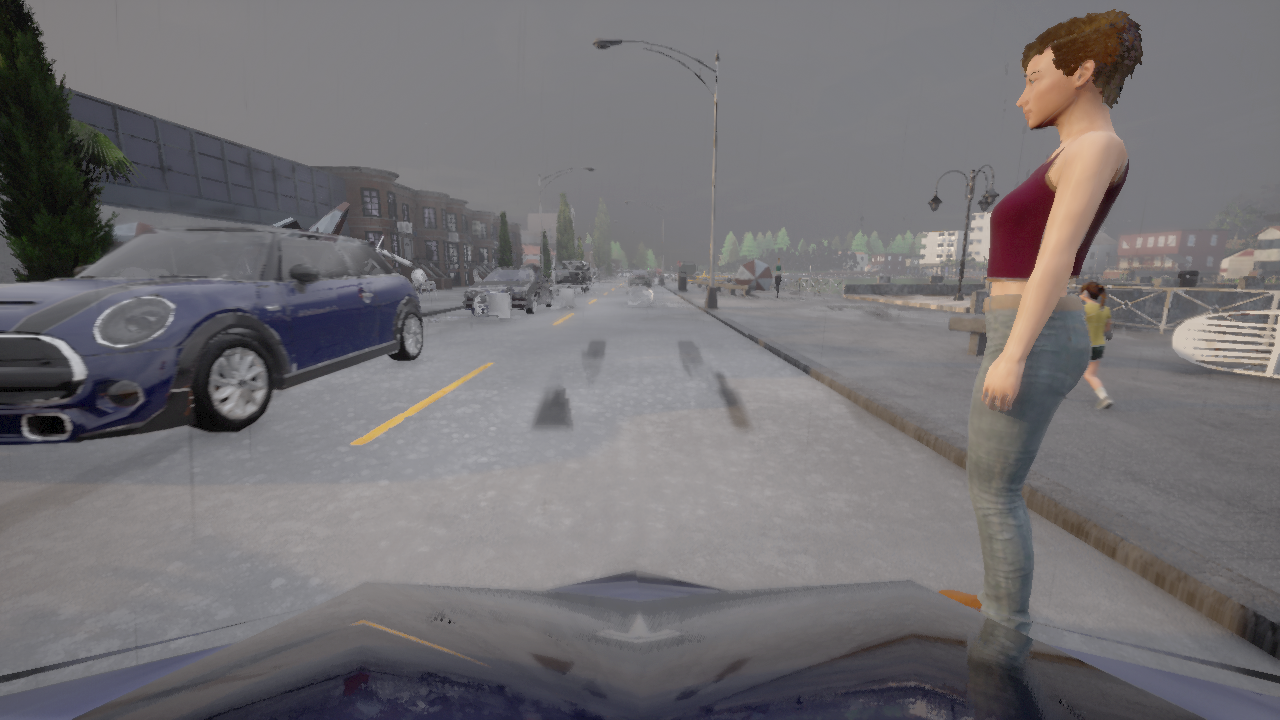cyclist: (0, 569, 1279, 719), (0, 226, 424, 445), (463, 267, 555, 314), (553, 259, 590, 292), (687, 268, 734, 284), (629, 269, 650, 286)
pedestrian: (937, 8, 1144, 634), (1064, 281, 1114, 409), (772, 257, 784, 298)
